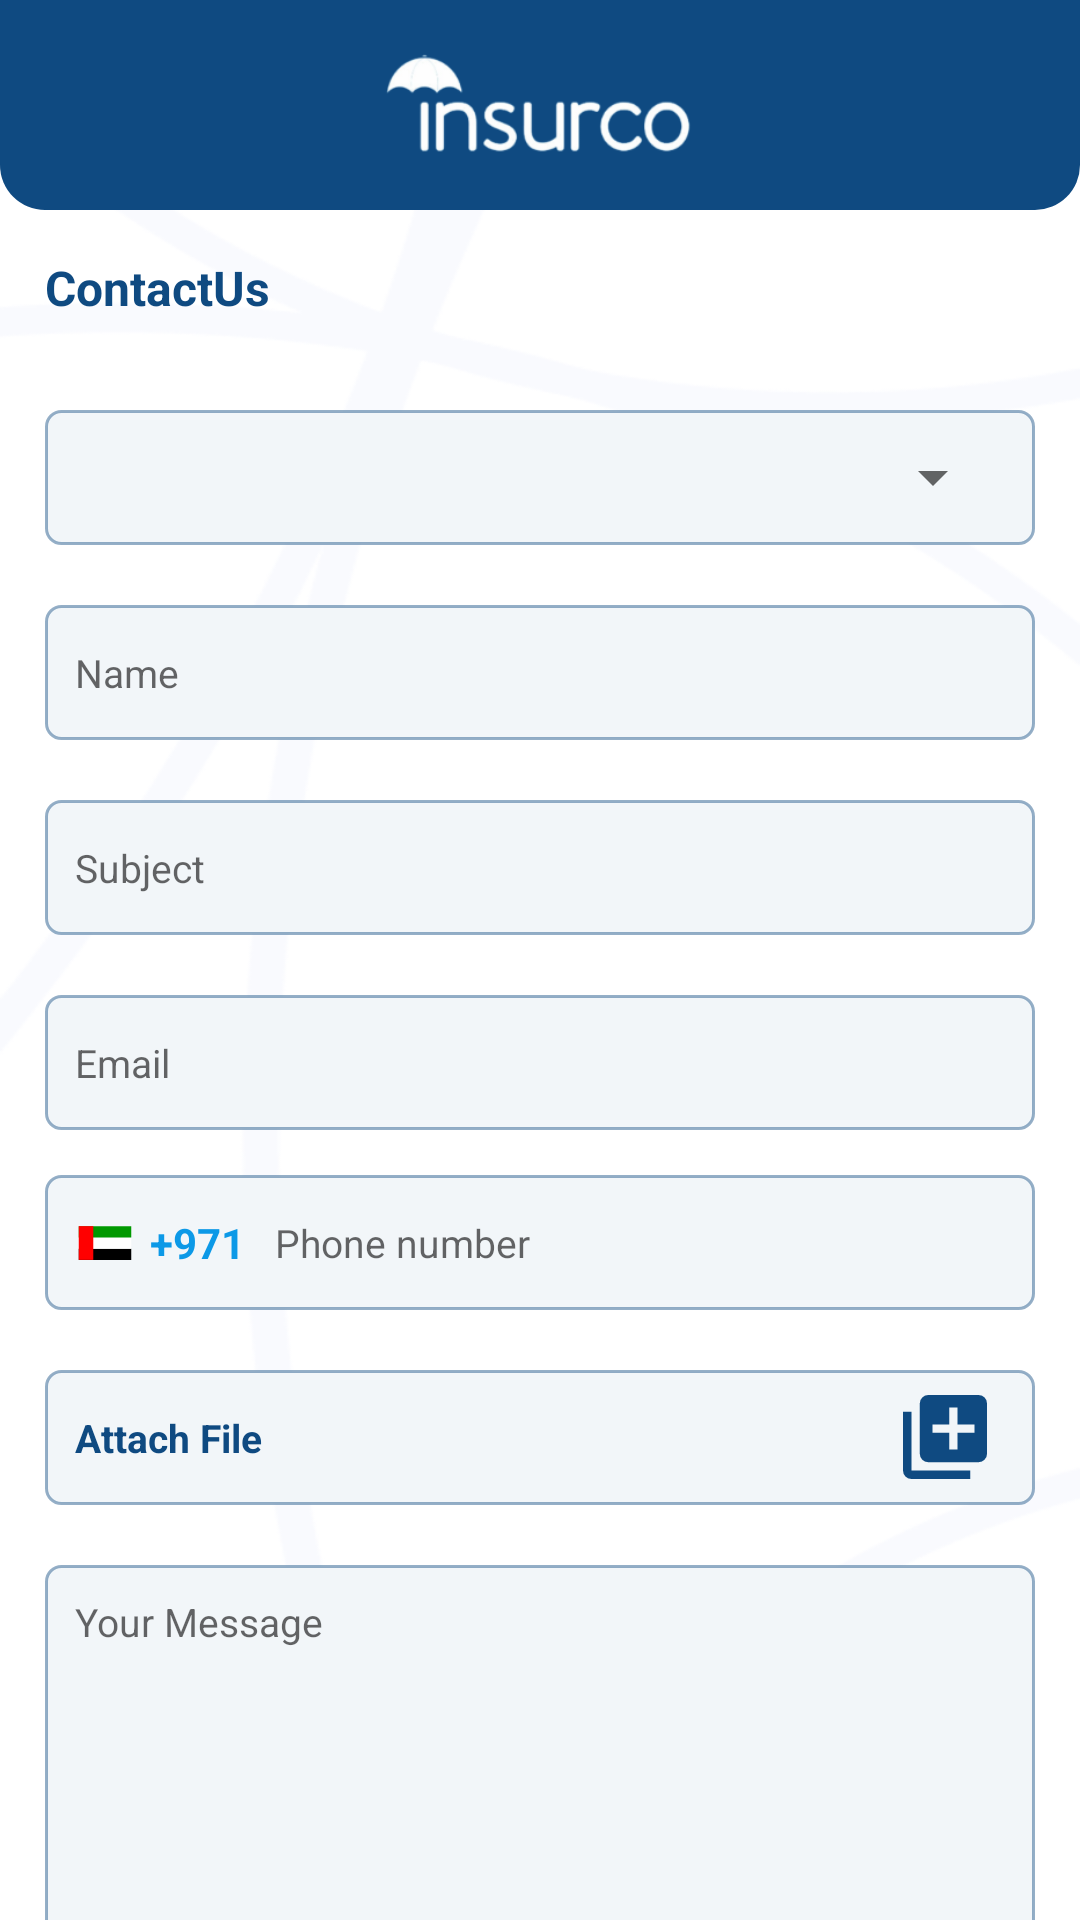

Screen size 1080px×1920px. Icon name, then its box in pixels as {"left": x1, "top": y1, "right": x2, "bottom": y2}:
emirate flag: {"left": 78, "top": 1226, "right": 132, "bottom": 1260}
library add: {"left": 903, "top": 1395, "right": 987, "bottom": 1479}
